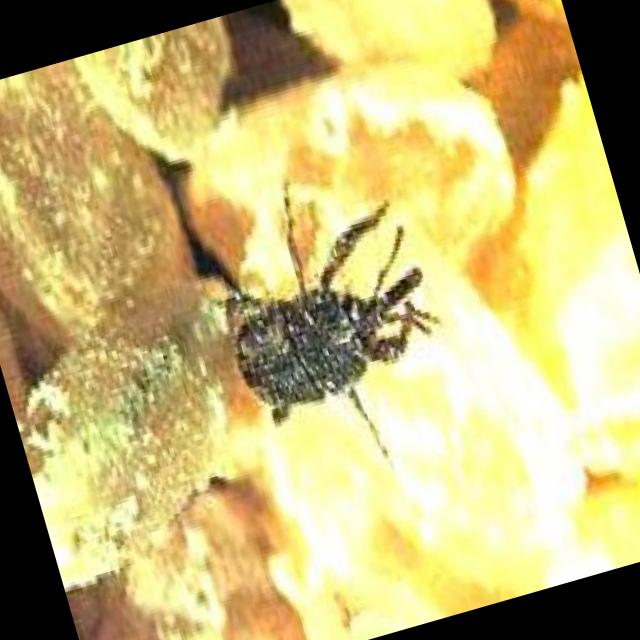rice-bug: (198, 175, 452, 450)
